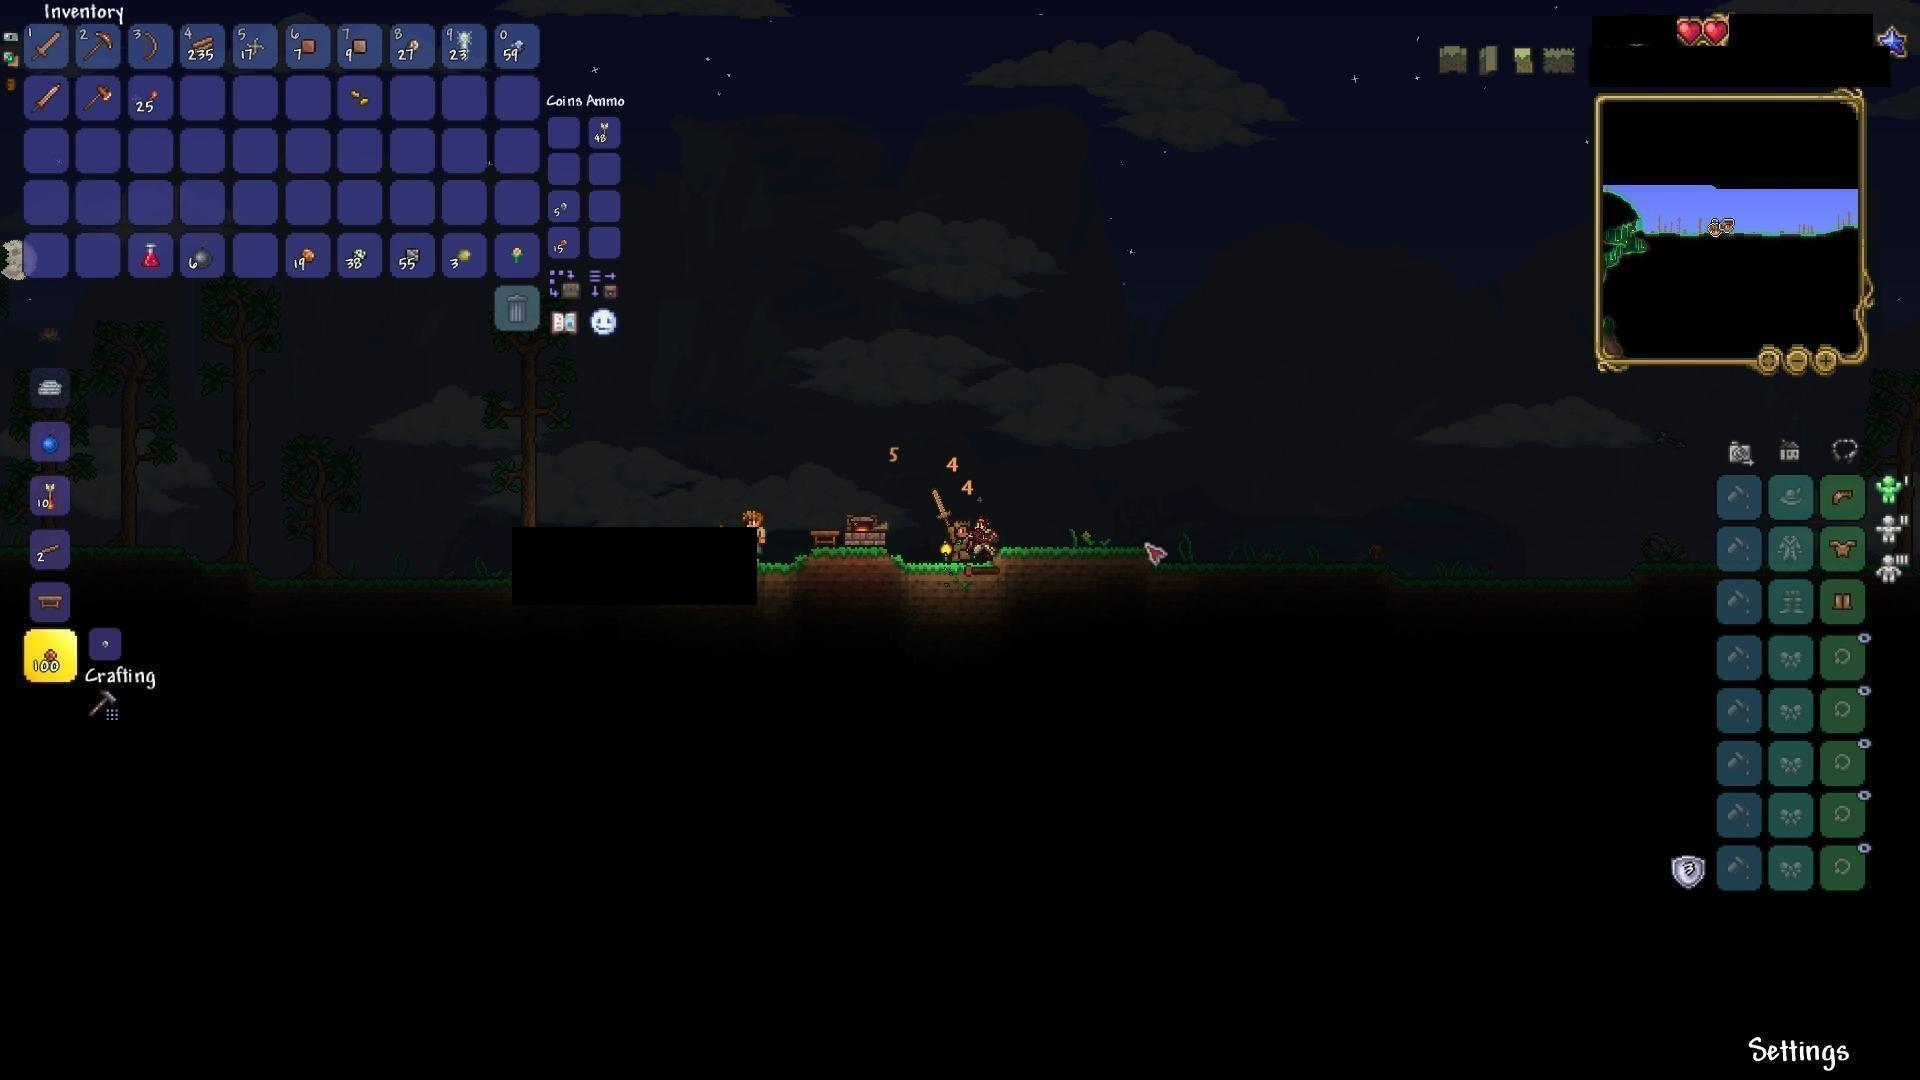dirt: (1004, 538, 1332, 582), (757, 551, 1015, 583)
heart: (1702, 17, 1733, 51), (1676, 15, 1704, 50)
